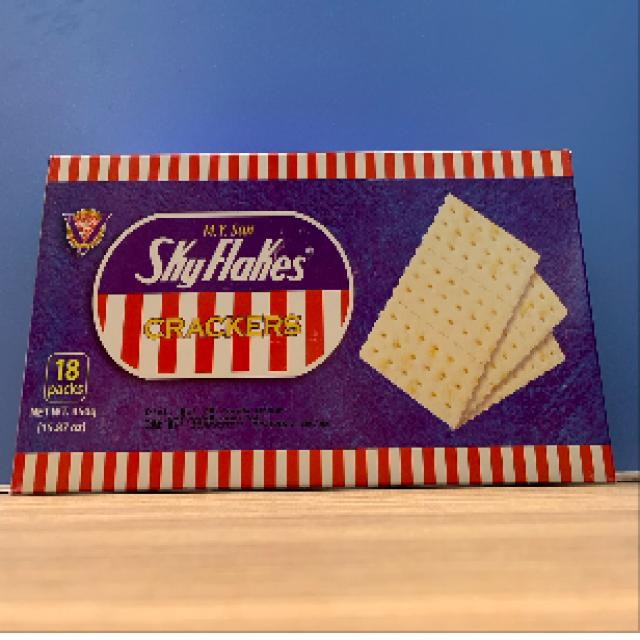object_name: (25, 160, 604, 484)
